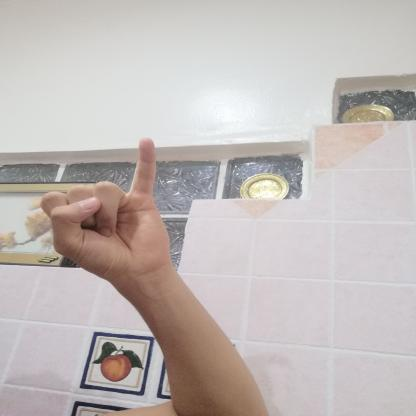MEEM: (21, 127, 190, 296)
